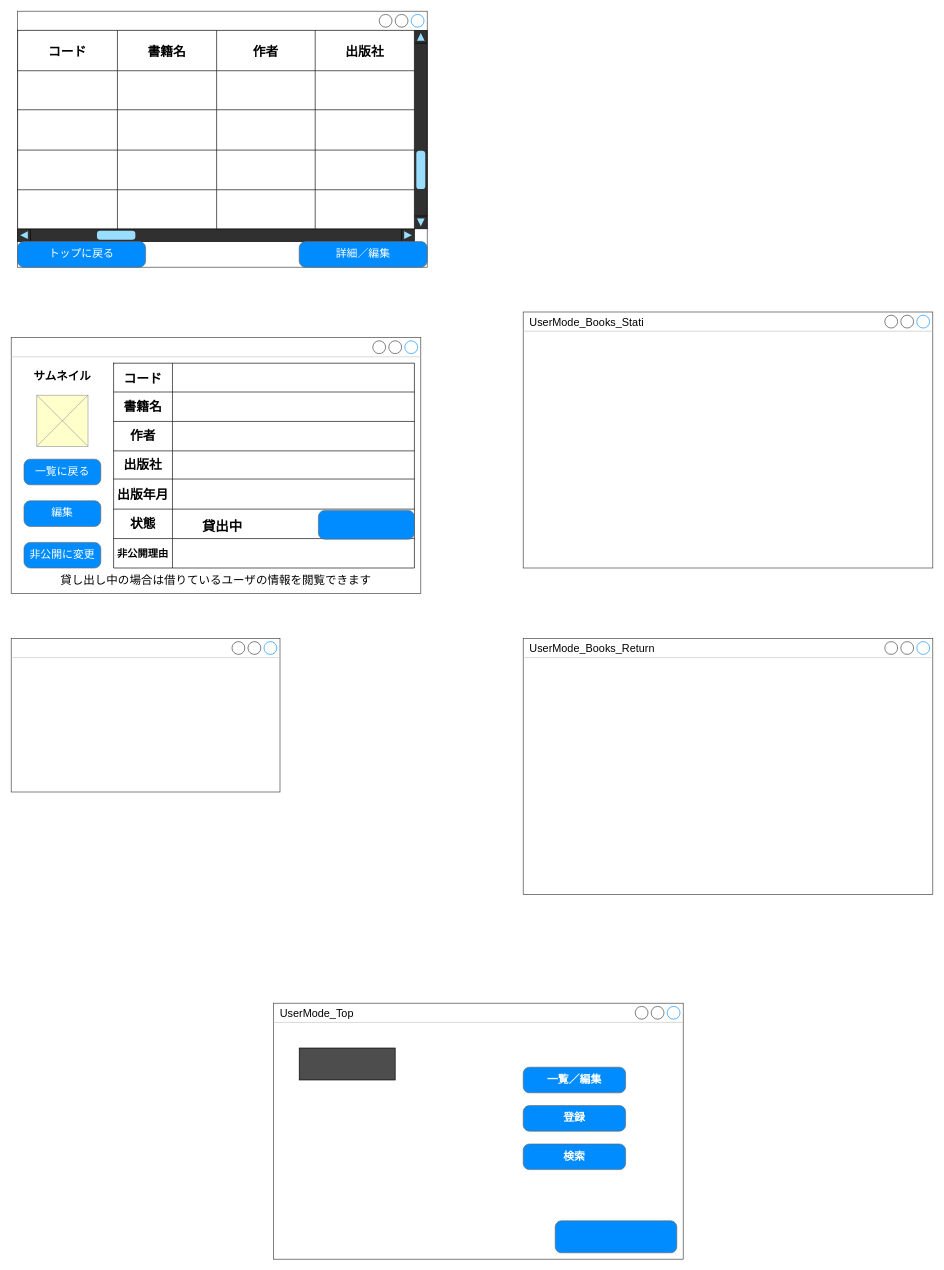
Some shapes in this 944 by 1270 pixel diagram are drawn without their labels. The shapes that lost their labels are listed below. From the top down, each one's box as (x1, y1, x2, y2) in pixels, then its label:
(17, 11, 427, 267): AdminMode_Books_Explore
(11, 337, 421, 594): UserMode_Books_Details
(318, 510, 414, 539): 借り手情報
(11, 638, 280, 792): UserMode_Books_BorrowingUserInfoPopUp
(299, 1047, 395, 1080): 借用一覧
(555, 1220, 677, 1253): ログアウト
